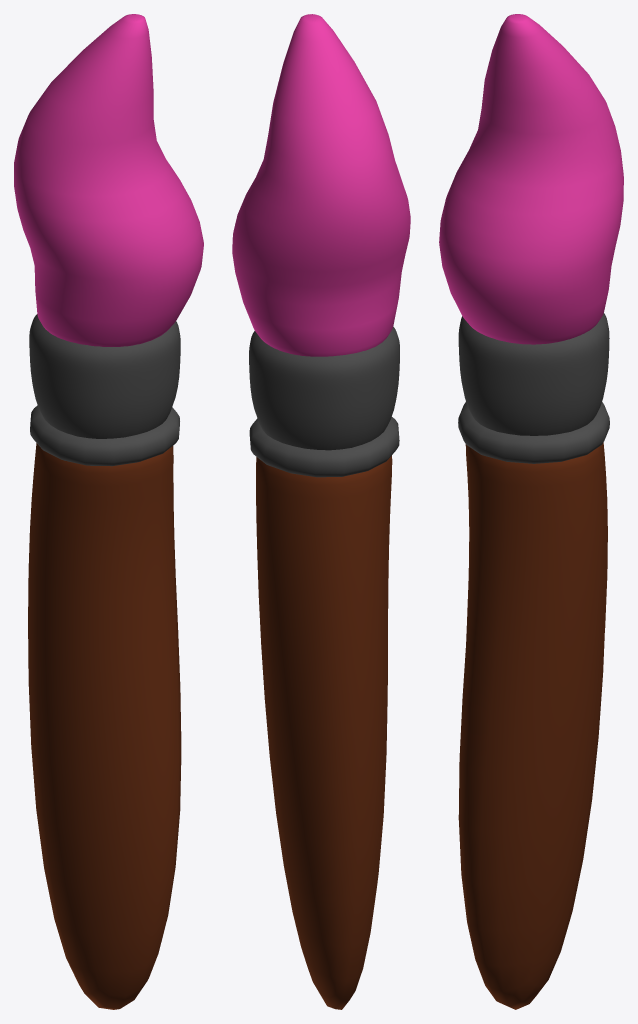
File: Prop_Brush.fbx
The picture shows the model from 3 angles, left to right: view 1: azimuth 30°, elevation 25°; view 2: azimuth 150°, elevation 25°; view 3: azimuth 270°, elevation 25°; orthographic projection.
Parts seen in each view (by area): view 1: Prop_Brush_LOD0; view 2: Prop_Brush_LOD0; view 3: Prop_Brush_LOD0.
Part boxes in pixels (x1=…): Prop_Brush_LOD0: x1=14, y1=14, x2=203, y2=1009; Prop_Brush_LOD0: x1=232, y1=14, x2=410, y2=1009; Prop_Brush_LOD0: x1=439, y1=14, x2=623, y2=1009.
Size of the model in its own units: 0.1386 by 0.136 by 0.8146.
